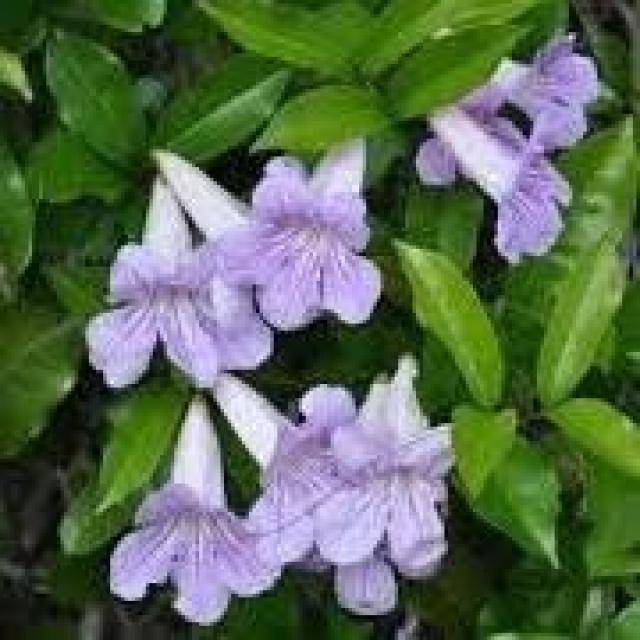organic waste: (284, 370, 473, 622), (96, 149, 252, 391), (116, 402, 290, 618), (422, 42, 588, 260), (229, 138, 393, 330)
